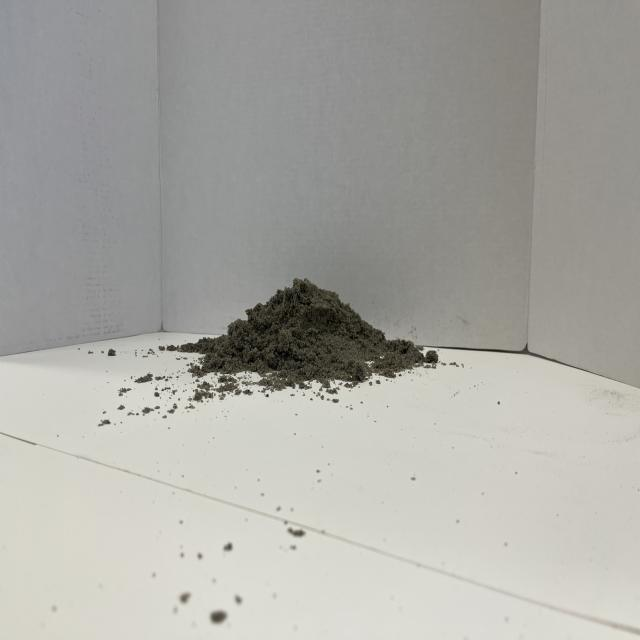sand: (169, 269, 414, 389)
